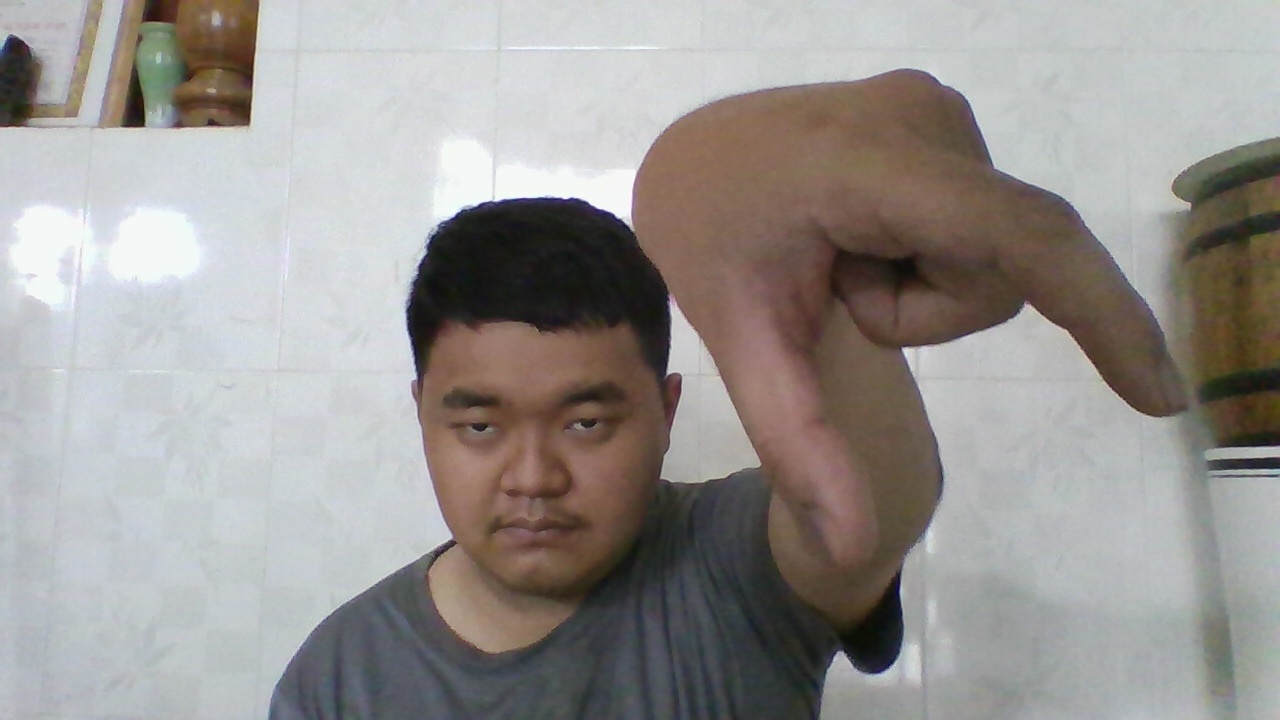Q: (681, 111, 1180, 543)
